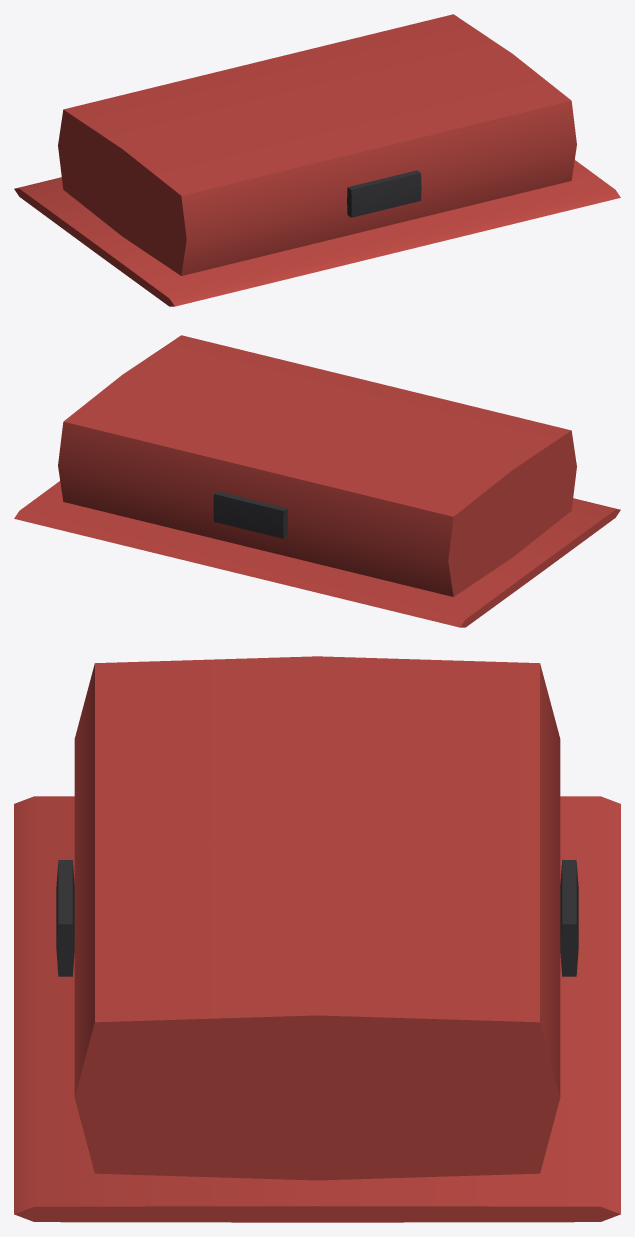
File: bash_box_lod1.glb
The picture shows the model from 3 angles, top to bottom: view 1: azimuth 30°, elevation 25°; view 2: azimuth 150°, elevation 25°; view 3: azimuth 270°, elevation 25°; orthographic projection. The views are drawn at different scales.
Parts seen in each view (by area): view 1: bash_box_lod1; view 2: bash_box_lod1; view 3: bash_box_lod1.
Part boxes in pixels (<box>): bash_box_lod1: <box>14,14,620,306</box>; bash_box_lod1: <box>14,335,620,627</box>; bash_box_lod1: <box>14,656,620,1222</box>.
Bounding box in the file's own units: 0.32 × 0.066 × 0.2.
